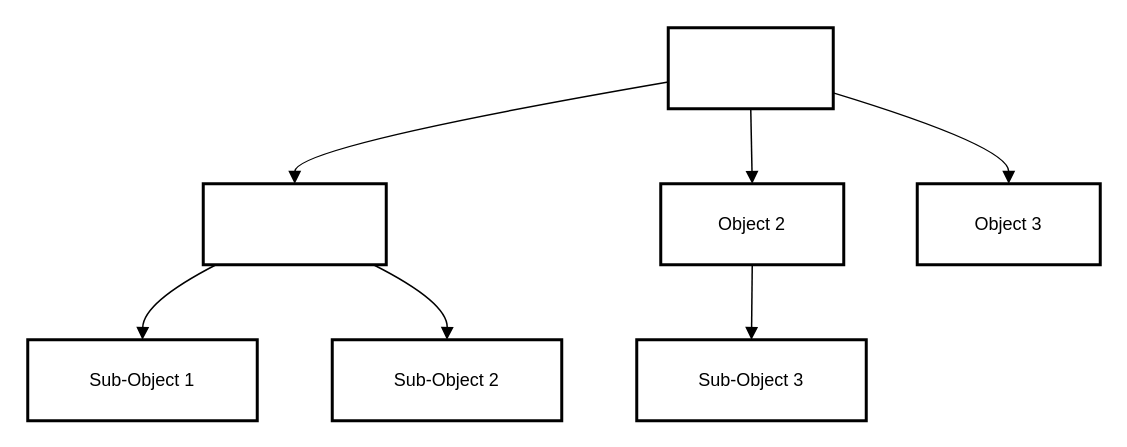
Some shapes in this 1127 by 447 pixel diagram are drawn without their labels. The shapes that lost their labels are listed below. From the top down, each one's centre as x and y in pixels, then its label:
At (750,68): "System".
At (294,224): "Object 1".
